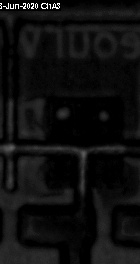led: (45, 97, 122, 190)
